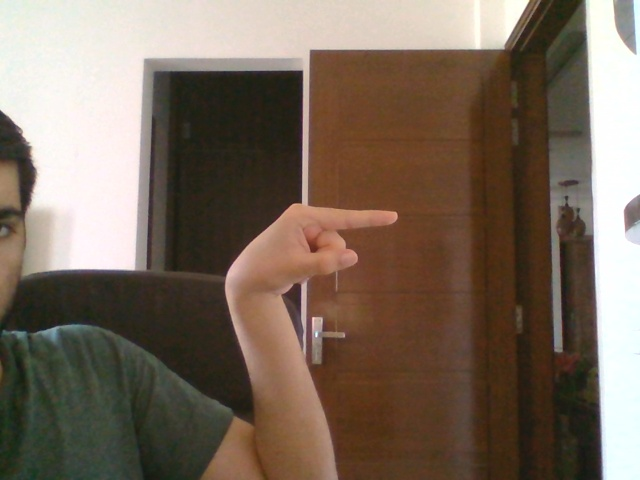LetterG: (225, 202, 398, 294)
